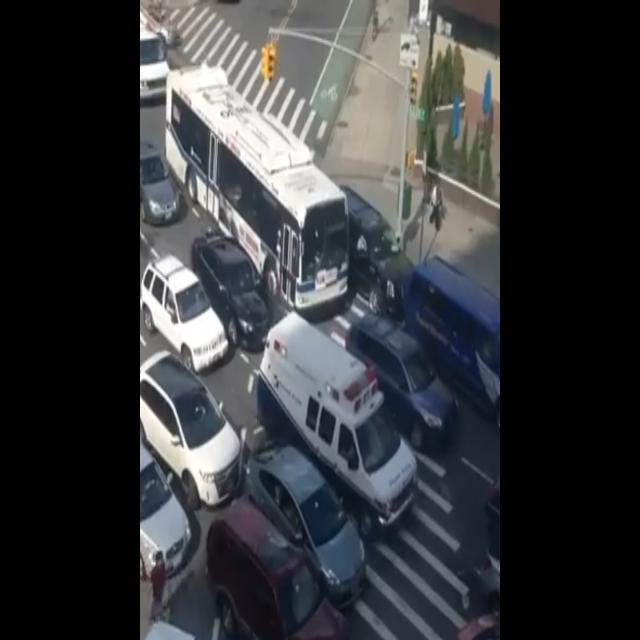Ambulance: (257, 289, 413, 534)
